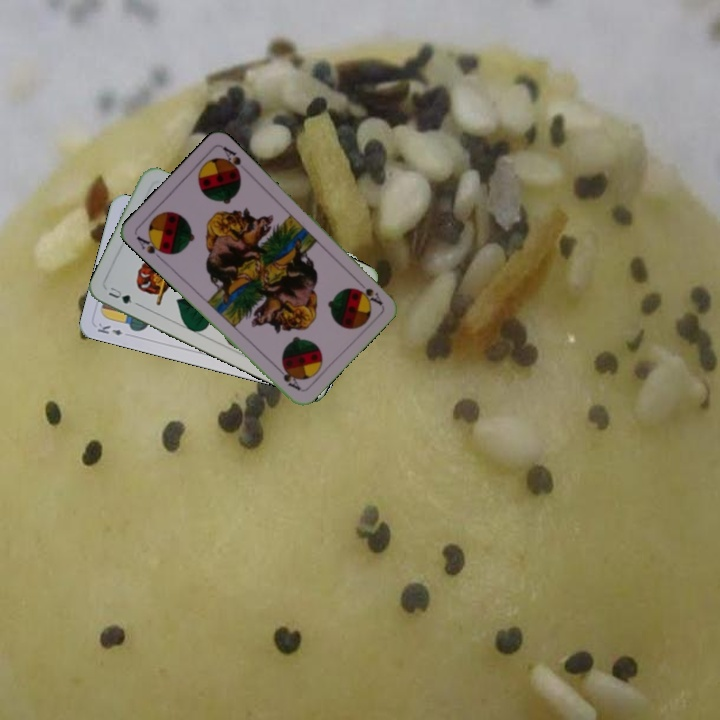EK: (93, 319, 125, 338)
GU: (104, 283, 141, 308)
SA: (132, 231, 170, 263), (352, 275, 385, 308)
